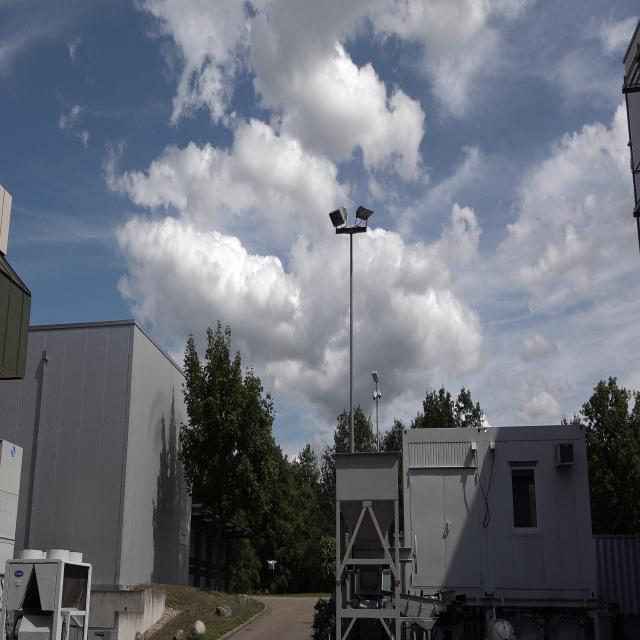drone: (264, 554, 280, 574)
